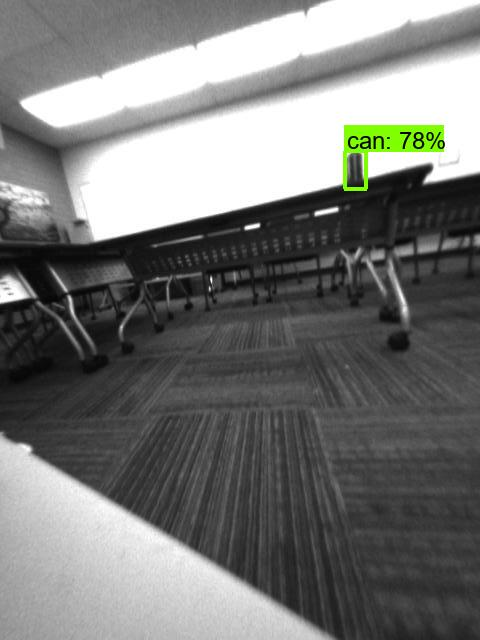can: (344, 148, 364, 188)
